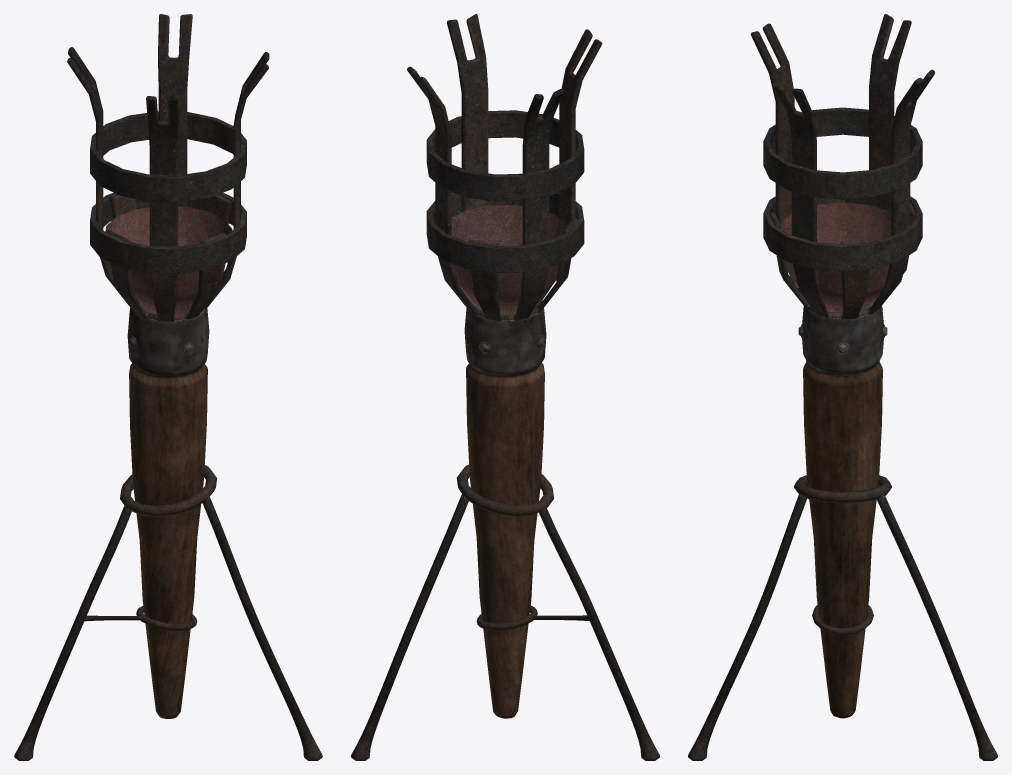
Rendered from torch.glb.
3 renders of one model, left to right at view 1: azimuth 30°, elevation 25°; view 2: azimuth 150°, elevation 25°; view 3: azimuth 270°, elevation 25°, orthographic.
Parts seen in each view (by area): view 1: ch1.torch.002; view 2: ch1.torch.002; view 3: ch1.torch.002.
Boxes of the visible parts, x1,y1,x2,y2 form: ch1.torch.002: (14,14,322,760); ch1.torch.002: (351,14,659,760); ch1.torch.002: (688,14,997,760).
Bounding box in the file's own units: 0.4536 × 1.25 × 0.5236.
2 materials, 2 textured.
